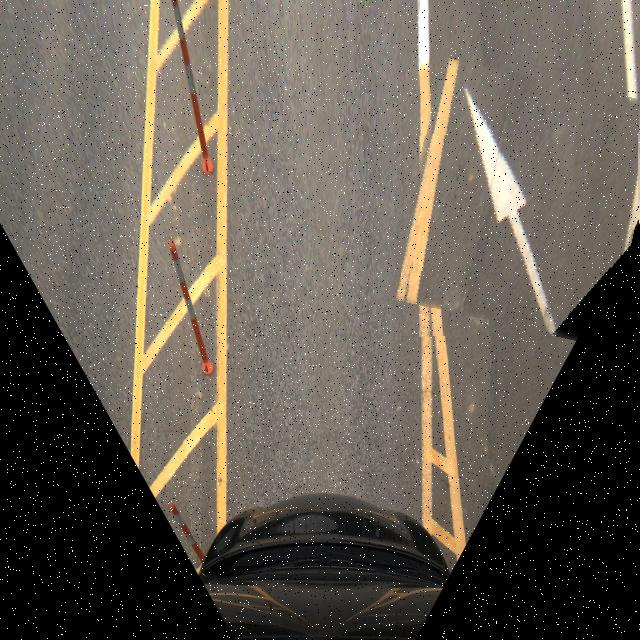chang_lane_left: (401, 68, 640, 337)
